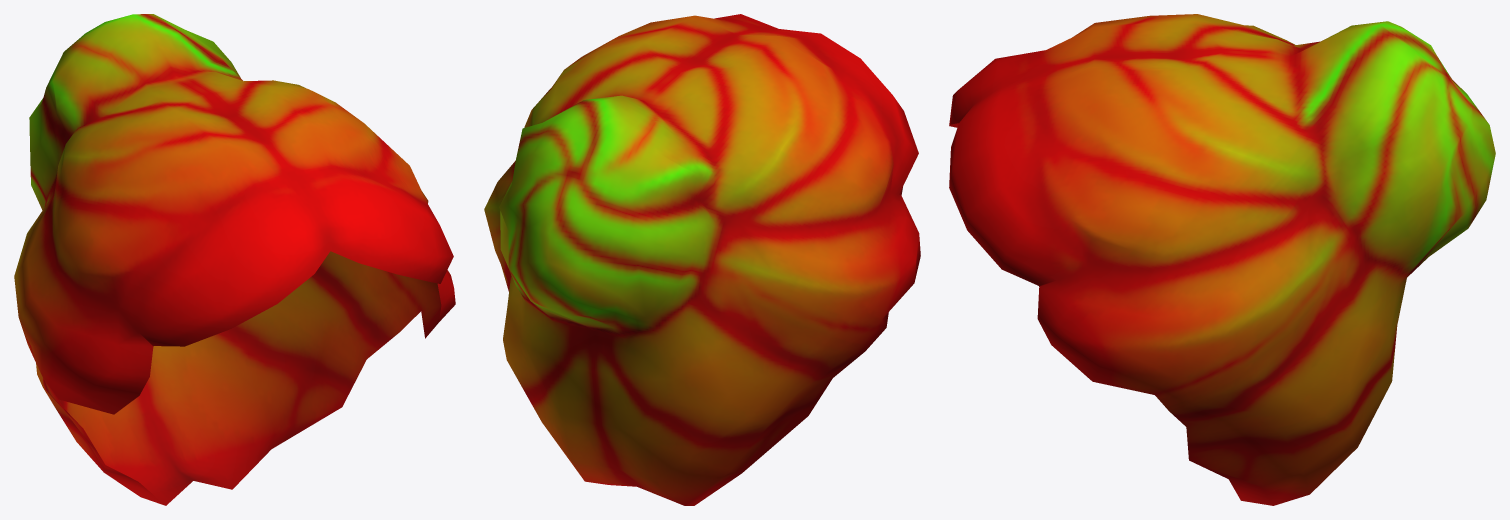
Rendered from HairBack_TiedBun.obj.
3 views of the same model, side by side, from view 1: azimuth 30°, elevation 25°; view 2: azimuth 150°, elevation 25°; view 3: azimuth 270°, elevation 25° (orthographic). The views are drawn at different scales.
Parts seen in each view (by area): view 1: HairBack_TiedBun_0; view 2: HairBack_TiedBun_0; view 3: HairBack_TiedBun_0.
Boxes of the visible parts, x1,y1,x2,y2 form: HairBack_TiedBun_0: (14,14,455,505); HairBack_TiedBun_0: (484,14,920,505); HairBack_TiedBun_0: (949,14,1495,505).
Size of the model in its own units: 0.2152 by 0.2309 by 0.2492.
Materials: 1 (1 with a texture image).
